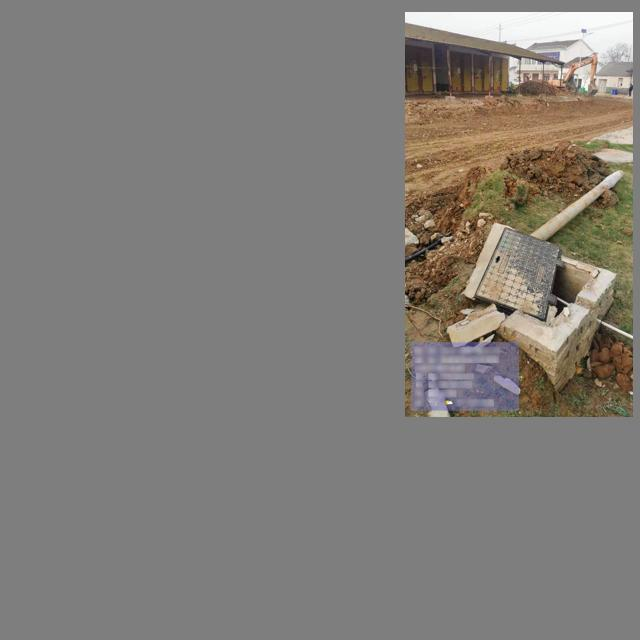circle: (452, 221, 606, 343)
